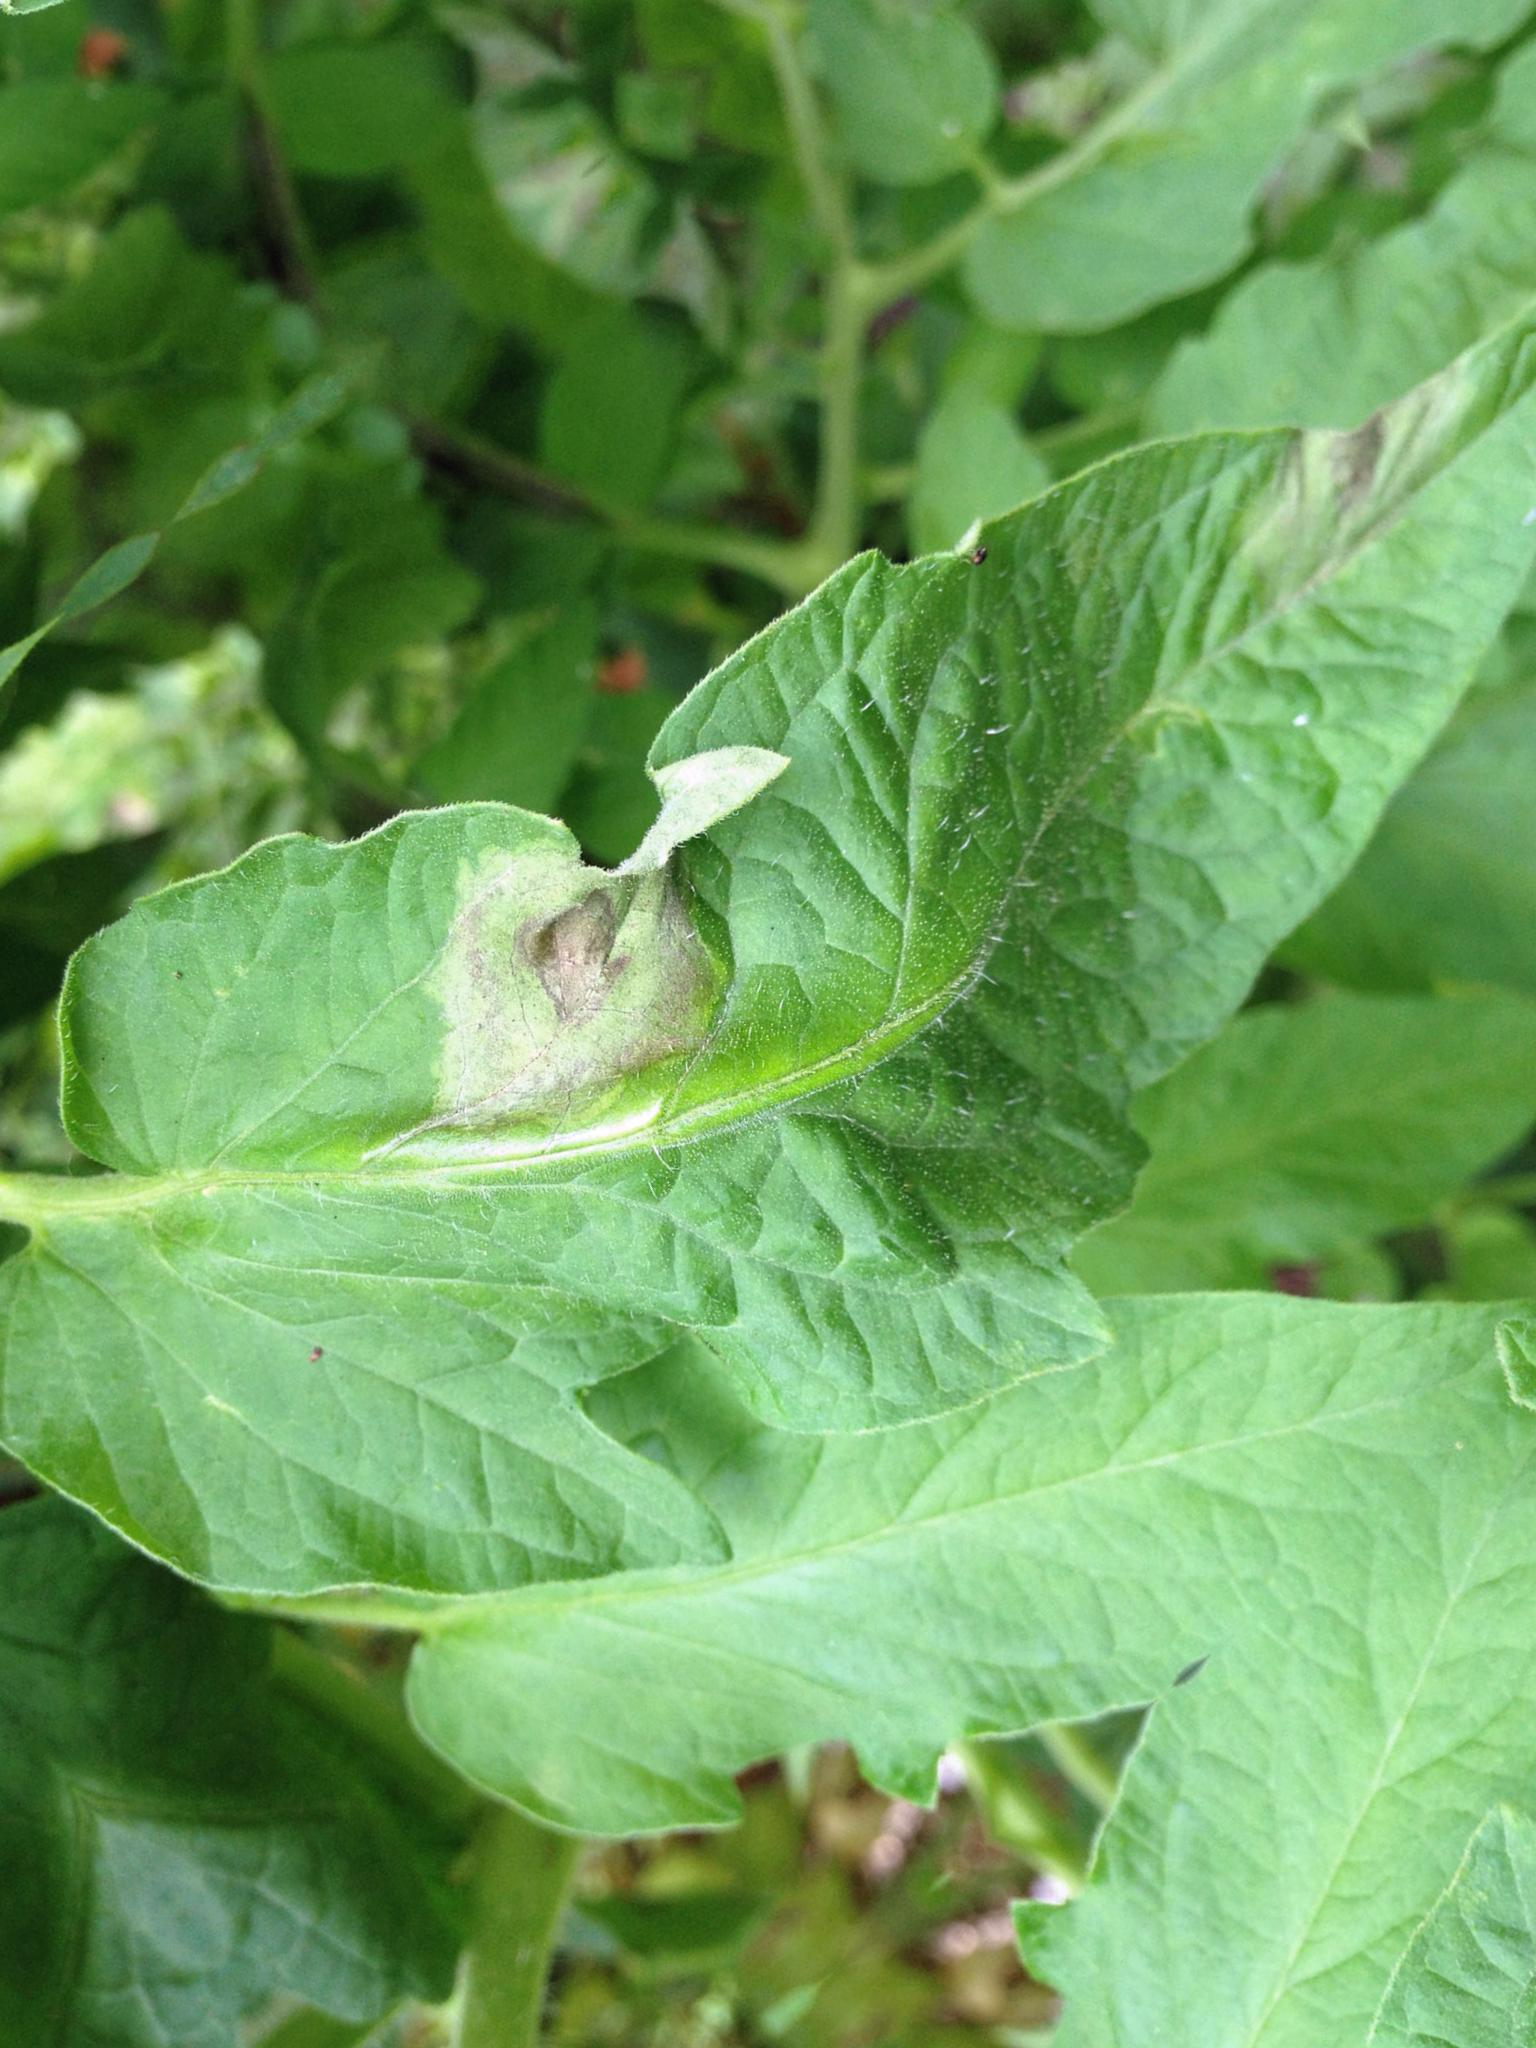Tomato leaf late blight: (0, 0, 1536, 1914)
